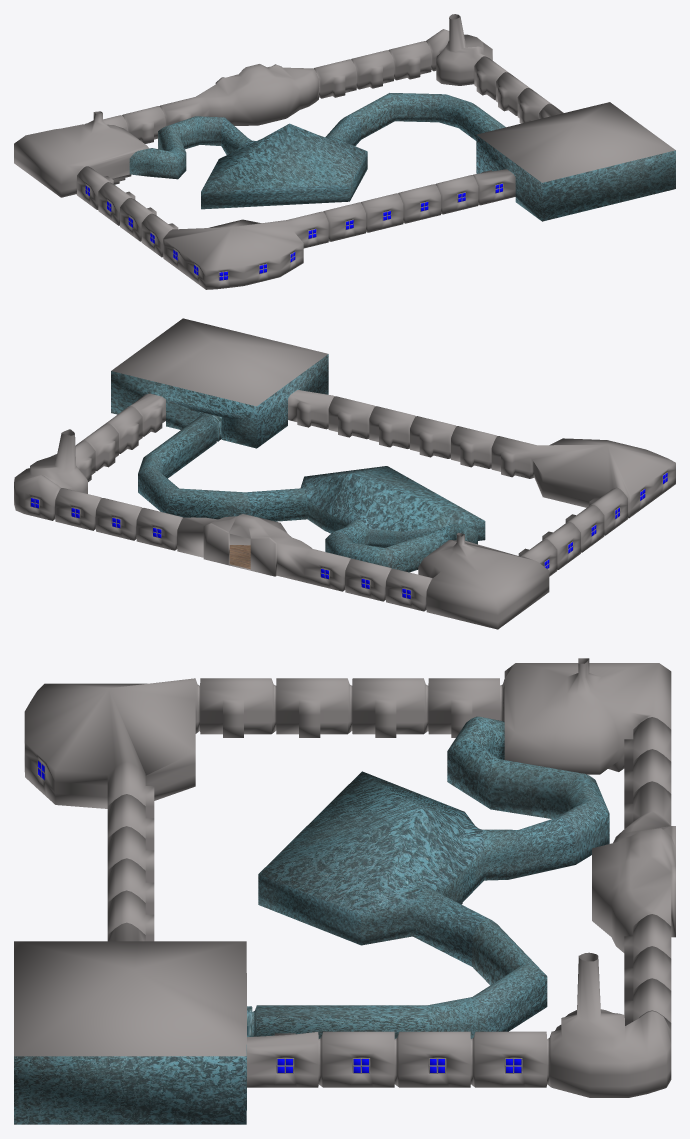
Rendered from Manor.fbx.
3 views of the same model, one above another, from view 1: azimuth 30°, elevation 25°; view 2: azimuth 150°, elevation 25°; view 3: azimuth 270°, elevation 25° (orthographic). The views are drawn at different scales.
Parts seen in each view (by area): view 1: Plane; view 2: Plane; view 3: Plane.
Part boxes in pixels (bbox=[...]): Plane: bbox=[14, 14, 675, 289]; Plane: bbox=[14, 318, 675, 629]; Plane: bbox=[14, 658, 675, 1124].
Bounding box in the file's own units: 14.14 × 1.96 × 9.66.
